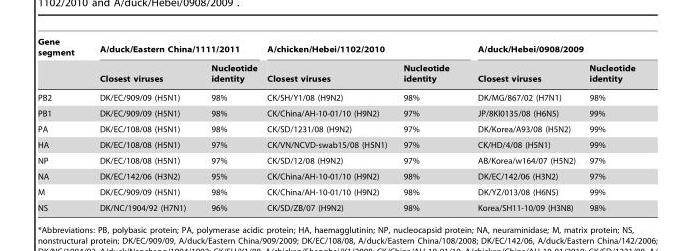table: (37, 37, 634, 212)
table column: (261, 37, 394, 212), (462, 37, 581, 212), (86, 37, 197, 212), (394, 37, 462, 212), (197, 37, 261, 212), (581, 37, 634, 212), (37, 37, 86, 212)
table column header: (37, 37, 634, 88)
table row: (37, 60, 634, 88), (37, 37, 634, 60), (37, 88, 634, 105), (37, 105, 634, 121), (37, 136, 634, 152), (37, 152, 634, 168), (37, 168, 634, 184), (37, 121, 634, 136), (37, 184, 634, 199), (37, 199, 634, 212)
table spanning cell: (261, 37, 462, 60), (86, 37, 261, 60), (462, 37, 634, 60), (37, 37, 86, 88)
